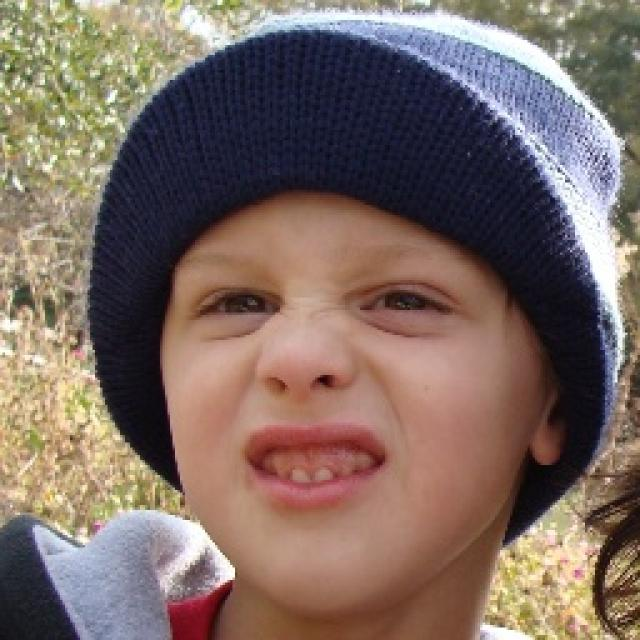earlobe: (527, 422, 565, 470)
eye: (196, 285, 284, 324), (361, 287, 450, 321)
nose: (259, 382, 352, 416)
